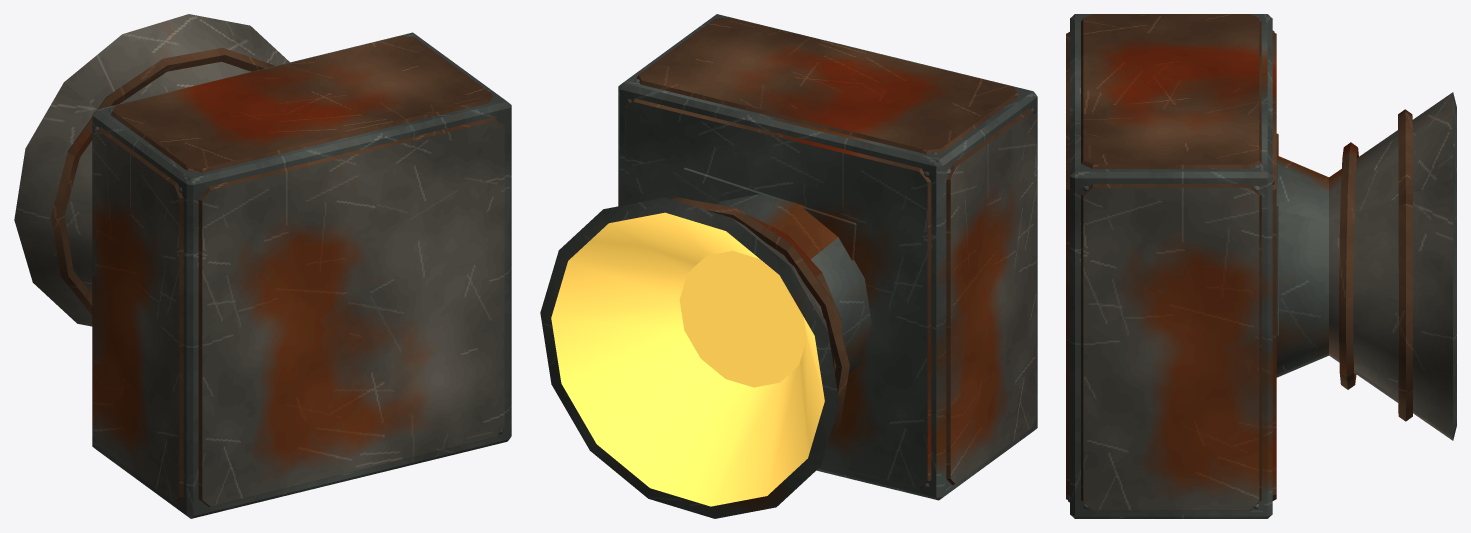
Rendered from R4X_Booster.glb.
3 renders of one model, left to right at view 1: azimuth 30°, elevation 25°; view 2: azimuth 150°, elevation 25°; view 3: azimuth 270°, elevation 25°, orthographic. The views are drawn at different scales.
Parts seen in each view (by area): view 1: R4X_Booster_Body; view 2: R4X_Booster_Body; view 3: R4X_Booster_Body.
Part boxes in pixels (x1=…): R4X_Booster_Body: x1=14, y1=14, x2=511, y2=518; R4X_Booster_Body: x1=540, y1=14, x2=1037, y2=518; R4X_Booster_Body: x1=1066, y1=14, x2=1456, y2=518.
Size of the model in its own units: 0.52 by 0.52 by 0.52.
5 materials, 4 textured.
